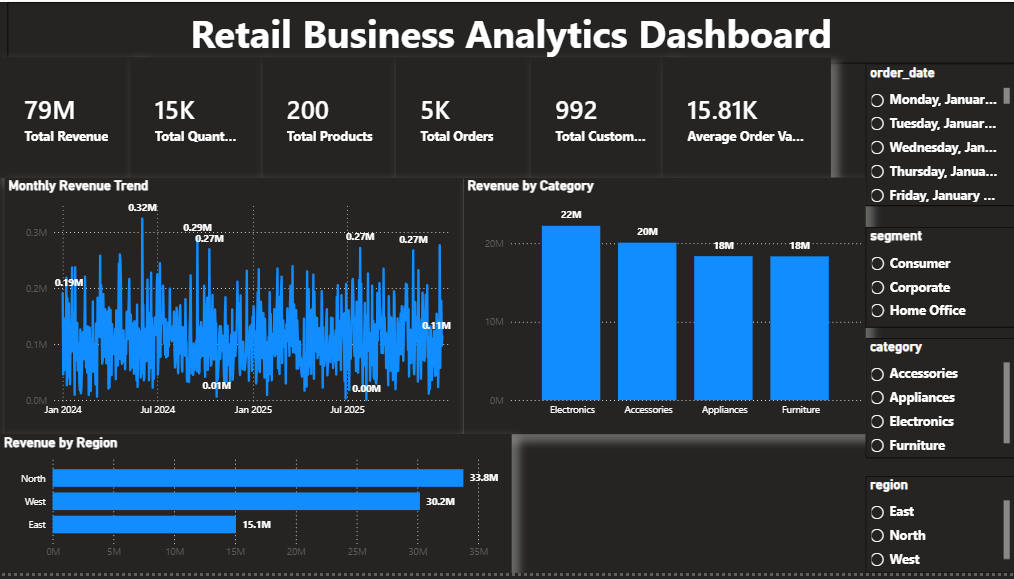

Layout of this report page (visuals, bound fields, positions):
{"tool":"powerbi","page":{"name":"Executive Overview","canvas":[1280,720],"ordinal":0},"visuals":[{"type":"textbox","box":[9.4,0,1269.9,77.5],"z":0},{"type":"cardVisual","fields":{"Data":["customers.Total Revenue"]},"box":[0,69.9,177.6,151.2],"z":1000},{"type":"cardVisual","fields":{"Data":["customers.Total Quantity"]},"box":[164.4,69.9,166.3,151.2],"z":2000},{"type":"cardVisual","fields":{"Data":["customers.Total Products"]},"box":[330.7,69.9,168.2,151.2],"z":3000},{"type":"cardVisual","fields":{"Data":["customers.Total Orders"]},"box":[498.9,69.9,170.1,151.2],"z":4000},{"type":"cardVisual","fields":{"Data":["customers.Total Customers"]},"box":[669,69.9,179.5,151.2],"z":5000},{"type":"cardVisual","fields":{"Data":["customers.Average Order Value"]},"box":[835.3,69.9,211.7,151.2],"z":6000},{"type":"lineChart","title":"Monthly Revenue Trend","fields":{"Category":["orders.order_date"],"Y":["customers.Total Revenue"]},"box":[5.7,221.1,578.3,323.2],"z":7000},{"type":"clusteredColumnChart","title":"Revenue by Category","fields":{"Category":["products.category"],"Y":["customers.Total Revenue"]},"box":[583.9,221.1,506.5,323.2],"z":8000},{"type":"clusteredBarChart","title":"Revenue by Region","fields":{"Category":["customers.region"],"Y":["customers.Total Revenue"]},"box":[0,544.3,644.4,175.7],"z":9000},{"type":"listSlicer","fields":{"Values":["customers.region"]},"box":[1090.4,597.2,189,122.8],"z":10000},{"type":"listSlicer","fields":{"Values":["products.category"]},"box":[1090.4,423.3,189,151.2],"z":11000},{"type":"listSlicer","fields":{"Values":["customers.segment"]},"box":[1090.4,283.5,189,126.6],"z":12000},{"type":"listSlicer","fields":{"Values":["orders.order_date"]},"box":[1090.4,77.5,189,179.5],"z":13000}]}

Visuals, with their boxes in screenshot pixels (x1, y1, x2, y2), scaled from the page's 1280x720 canvas onto the 1014x579 screenshot:
textbox: <bbox>7, 0, 1013, 62</bbox>
cardVisual - customers.Total Revenue: <bbox>0, 56, 141, 178</bbox>
cardVisual - customers.Total Quantity: <bbox>130, 56, 262, 178</bbox>
cardVisual - customers.Total Products: <bbox>262, 56, 395, 178</bbox>
cardVisual - customers.Total Orders: <bbox>395, 56, 530, 178</bbox>
cardVisual - customers.Total Customers: <bbox>530, 56, 672, 178</bbox>
cardVisual - customers.Average Order Value: <bbox>662, 56, 829, 178</bbox>
"Monthly Revenue Trend" lineChart: <bbox>5, 178, 463, 438</bbox>
"Revenue by Category" clusteredColumnChart: <bbox>463, 178, 864, 438</bbox>
"Revenue by Region" clusteredBarChart: <bbox>0, 438, 510, 578</bbox>
listSlicer - customers.region: <bbox>864, 480, 1013, 578</bbox>
listSlicer - products.category: <bbox>864, 340, 1013, 462</bbox>
listSlicer - customers.segment: <bbox>864, 228, 1013, 330</bbox>
listSlicer - orders.order_date: <bbox>864, 62, 1013, 207</bbox>
